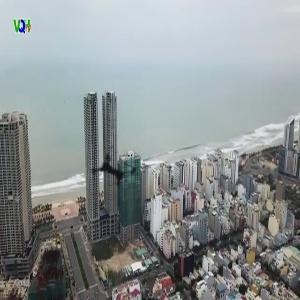drone: (67, 120, 167, 220)
